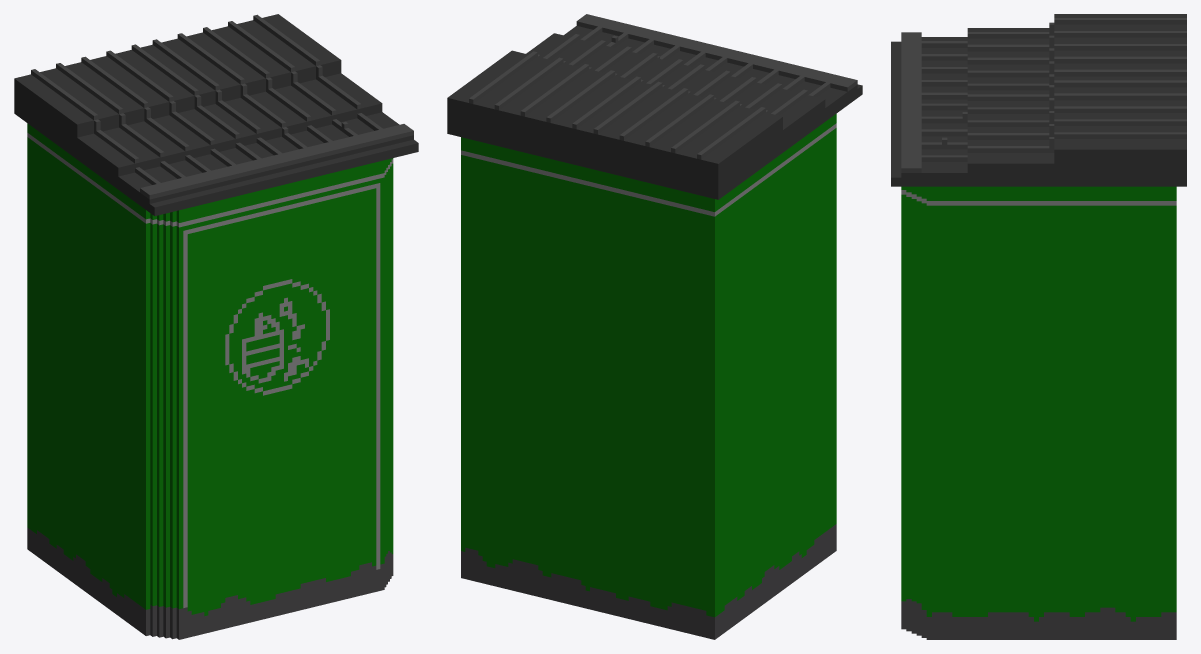
File: Dustbin-1.obj
The picture shows the model from 3 angles, left to right: view 1: azimuth 30°, elevation 25°; view 2: azimuth 150°, elevation 25°; view 3: azimuth 270°, elevation 25°; orthographic projection. The views are drawn at different scales.
Bounding box in the file's own units: 6.3 × 10.8 × 5.8.
1 material, 1 textured.
